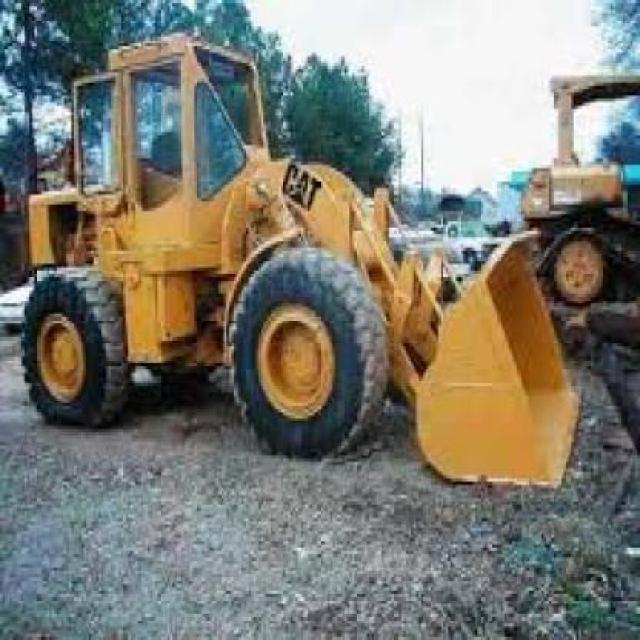buldozerpayloadergrader: (18, 31, 578, 508)
